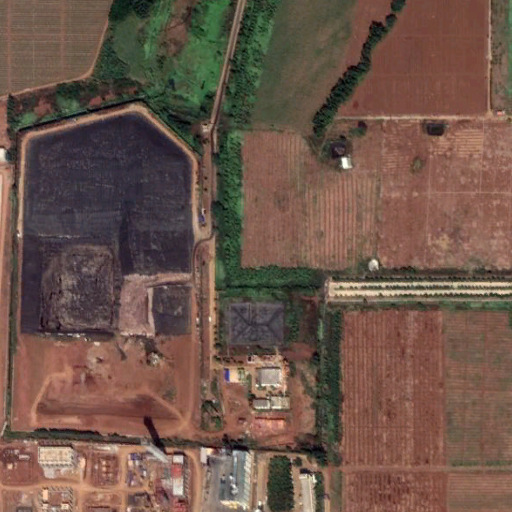lf: (20, 114, 192, 327)
